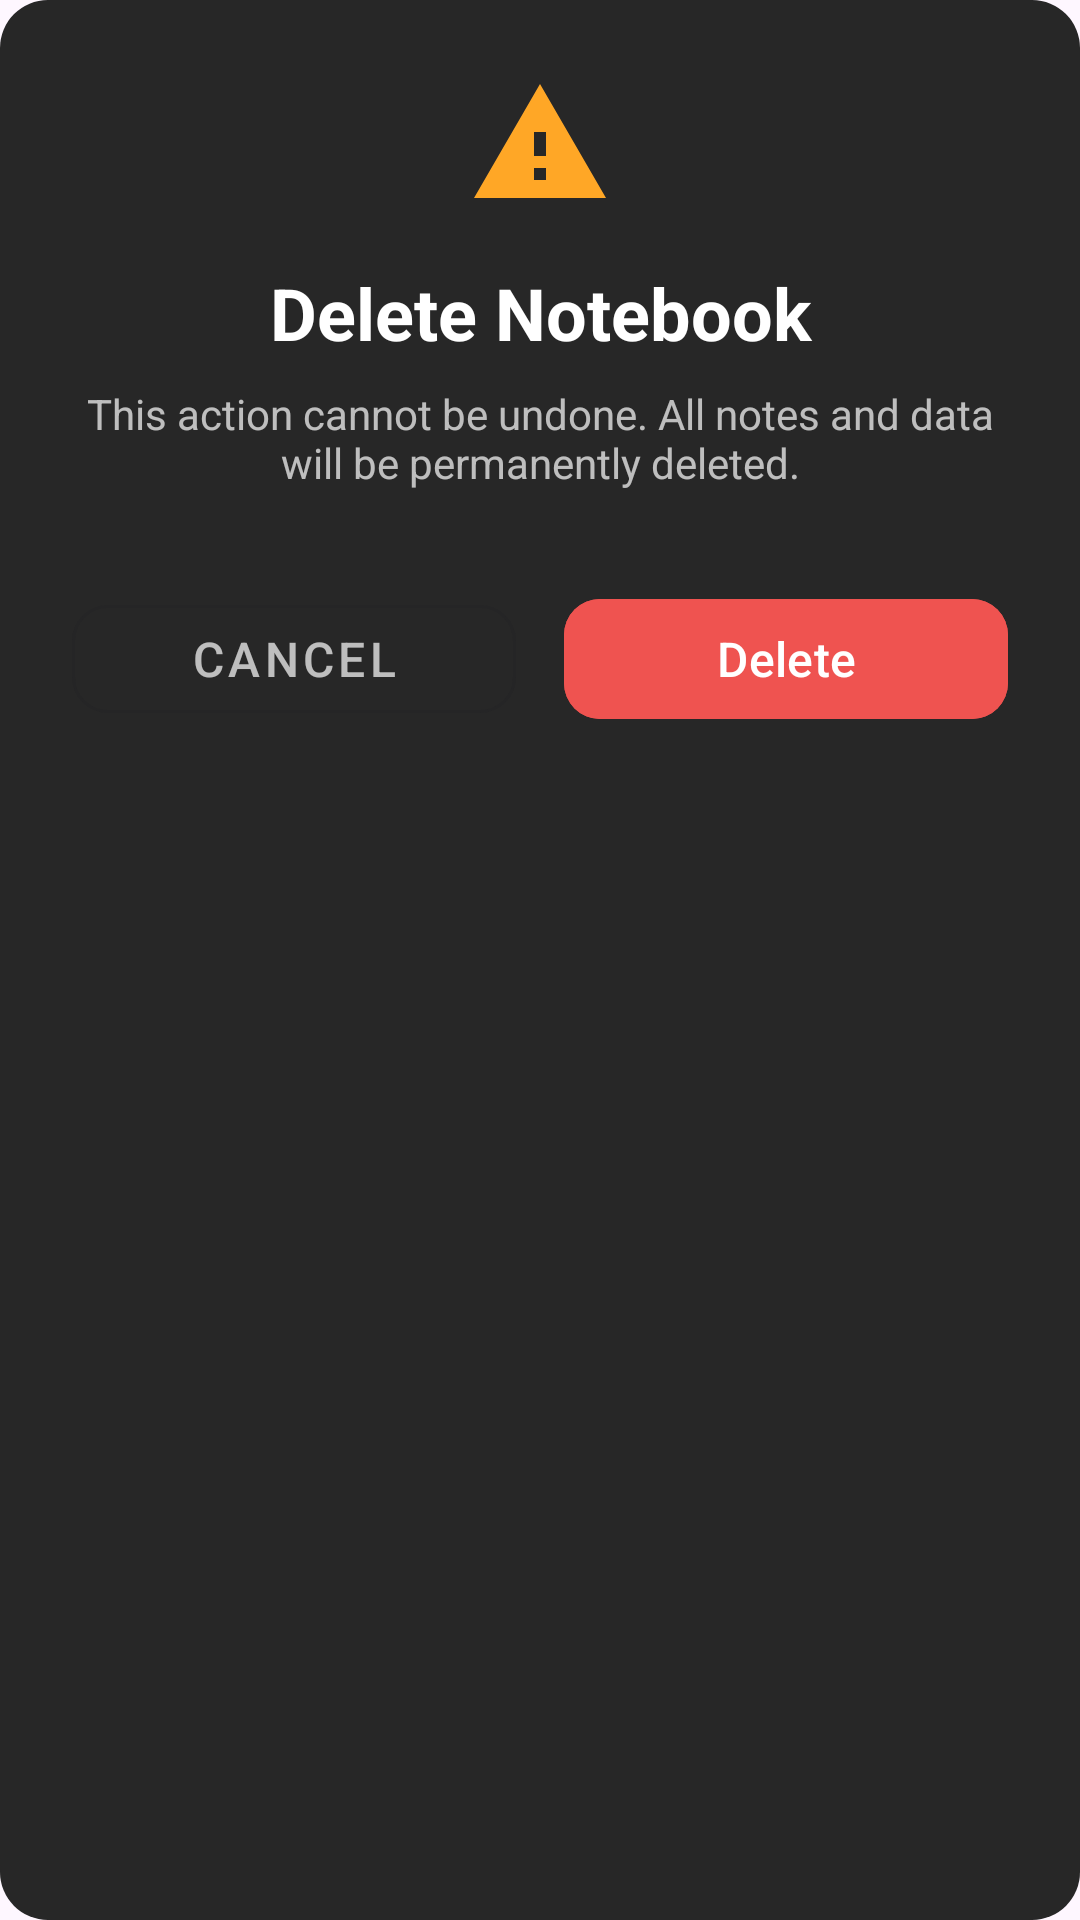

Icon click points for this 1080*1920 phone screenshot, format [x,y]:
warning: [540,141]
